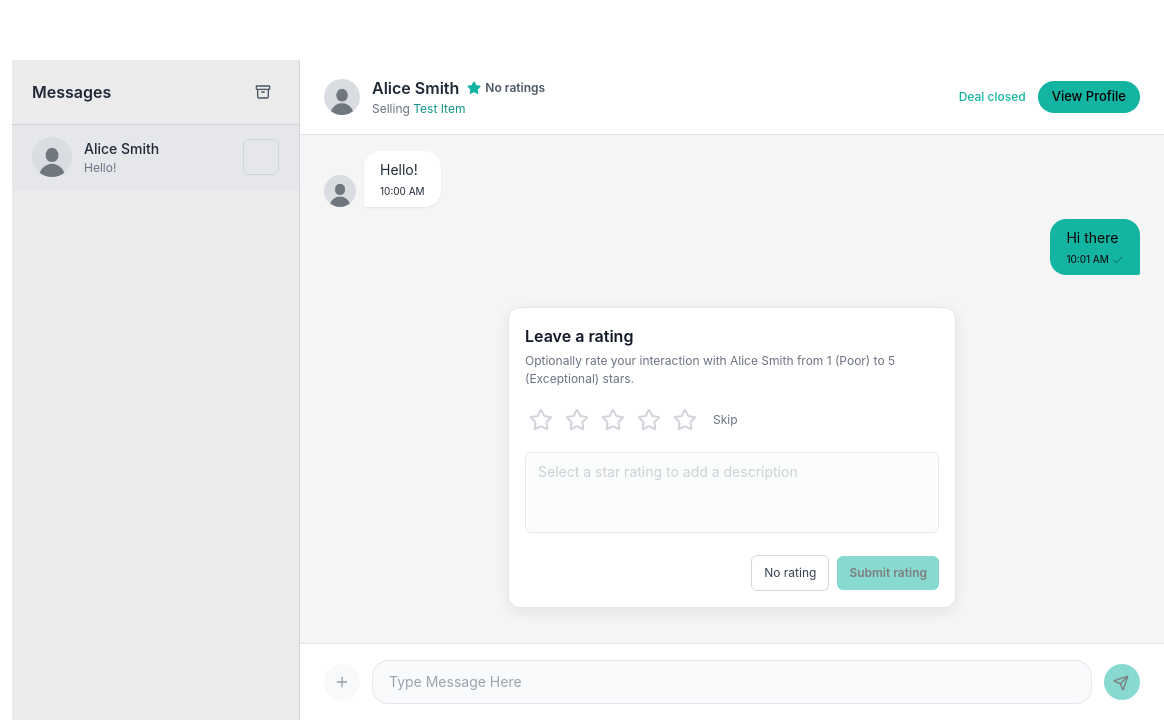
Scenario: ChatLayout › enables the description textarea after a star is clicked
Expected: the heading "Leave a rating" is shown, 525,326 -> 633,346
Step 1. Click the button named "rate 3 star" → (613, 420), box 597,404 -> 629,436
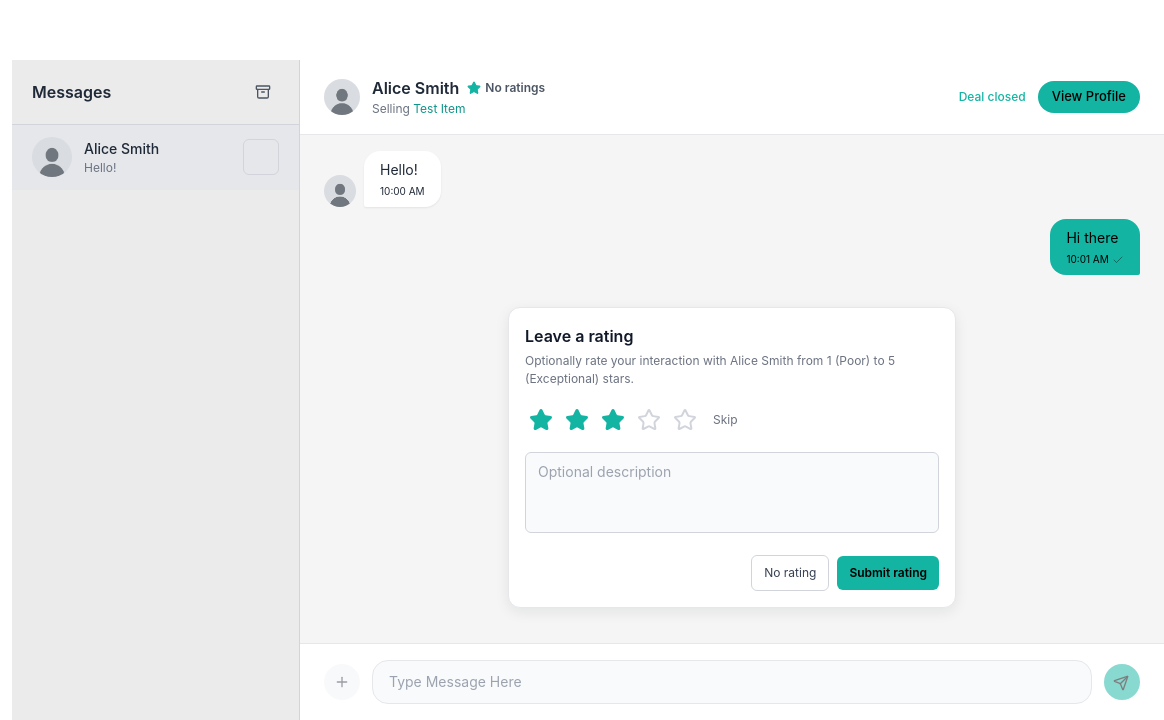
Now the text box with placeholder "Optional description" is enabled, box 525,452 -> 939,533
